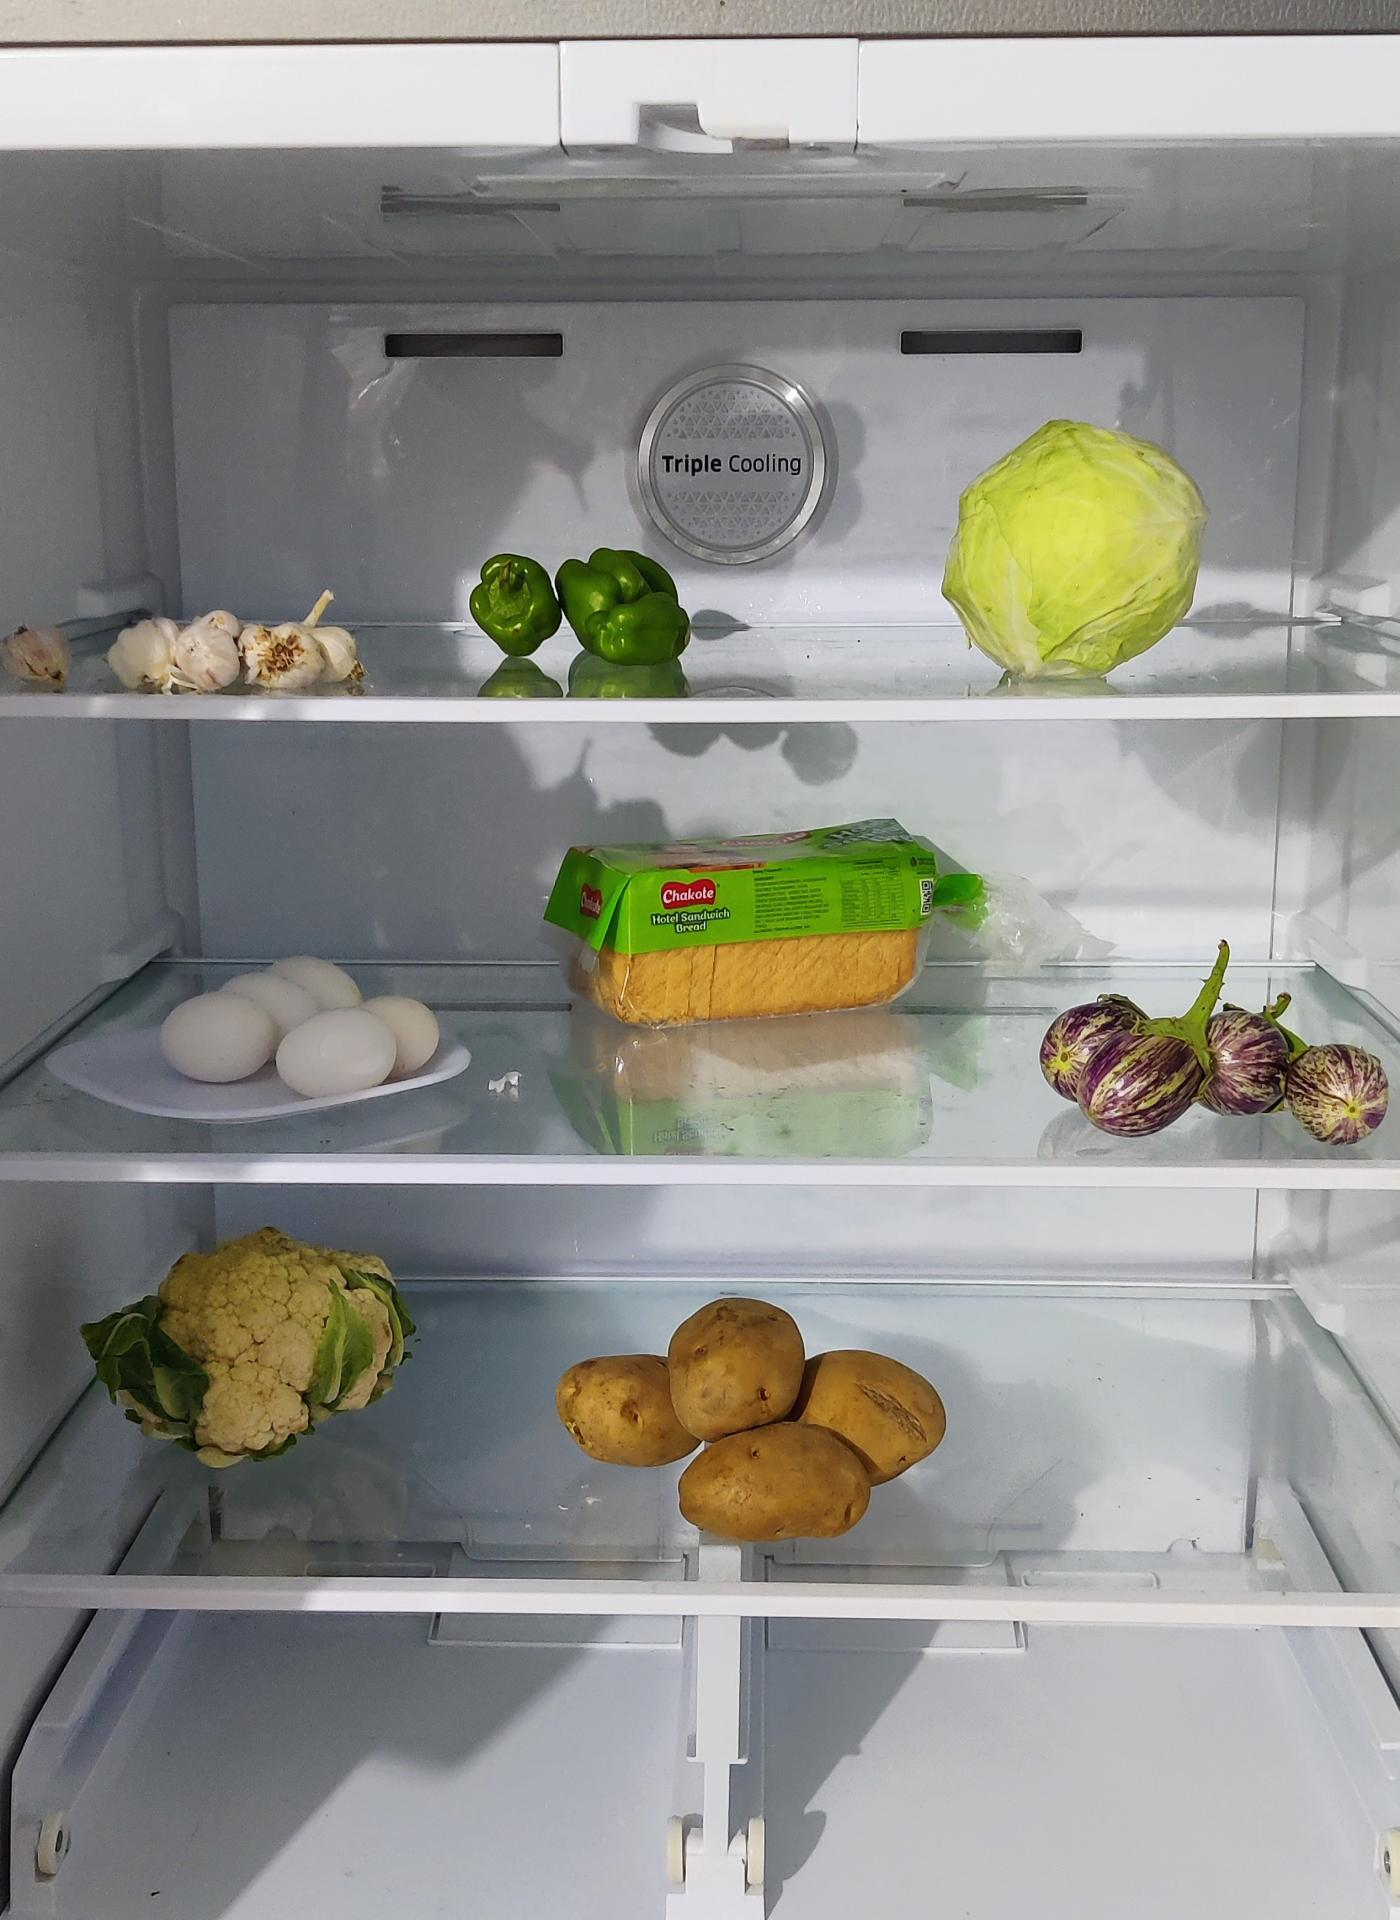bread: (550, 824, 947, 1033)
brinjal: (1044, 978, 1378, 1145)
cabbage: (938, 425, 1206, 687)
capsicum: (473, 543, 699, 669)
cauliflower: (103, 1222, 419, 1455)
egg: (165, 944, 455, 1099)
garlic: (107, 592, 370, 696)
potato: (558, 1300, 959, 1552)
